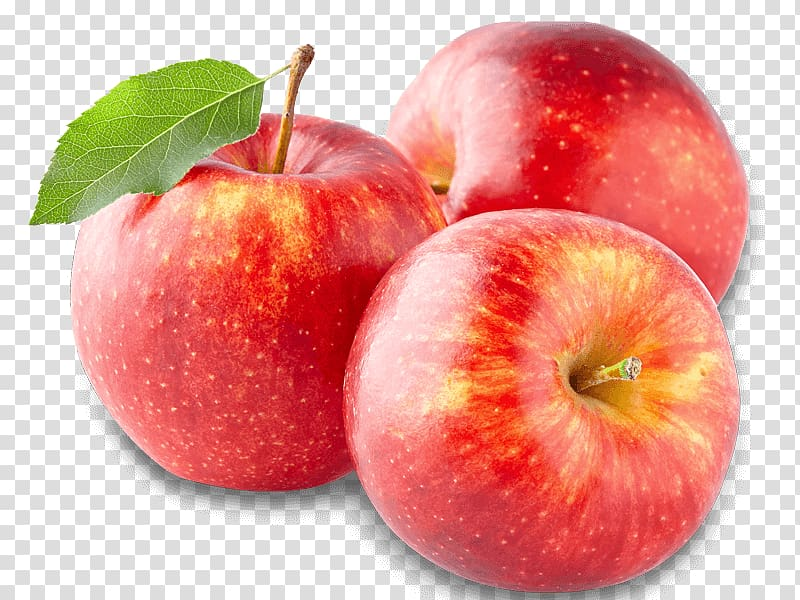elma: (28, 43, 449, 491), (343, 209, 740, 591), (379, 20, 751, 310)
